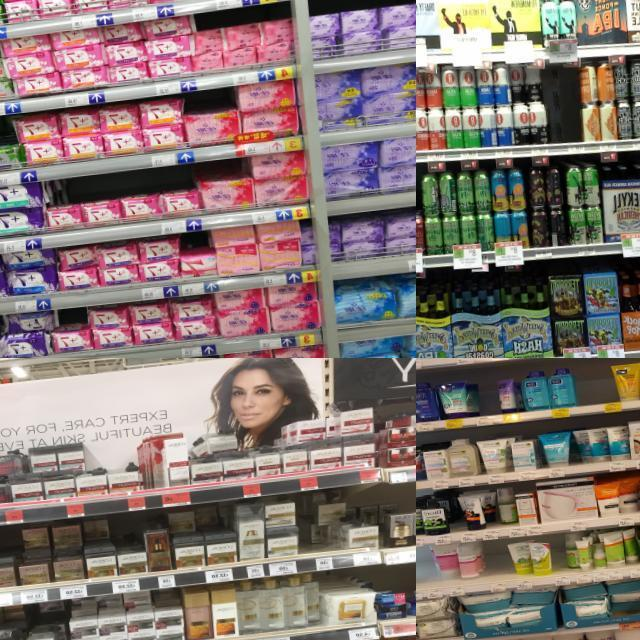Imprecise: (22, 521, 116, 579), (72, 581, 150, 640), (172, 504, 235, 568), (304, 490, 358, 552), (514, 60, 546, 144), (27, 601, 60, 640), (434, 544, 461, 587), (304, 576, 326, 628), (564, 533, 580, 572)
